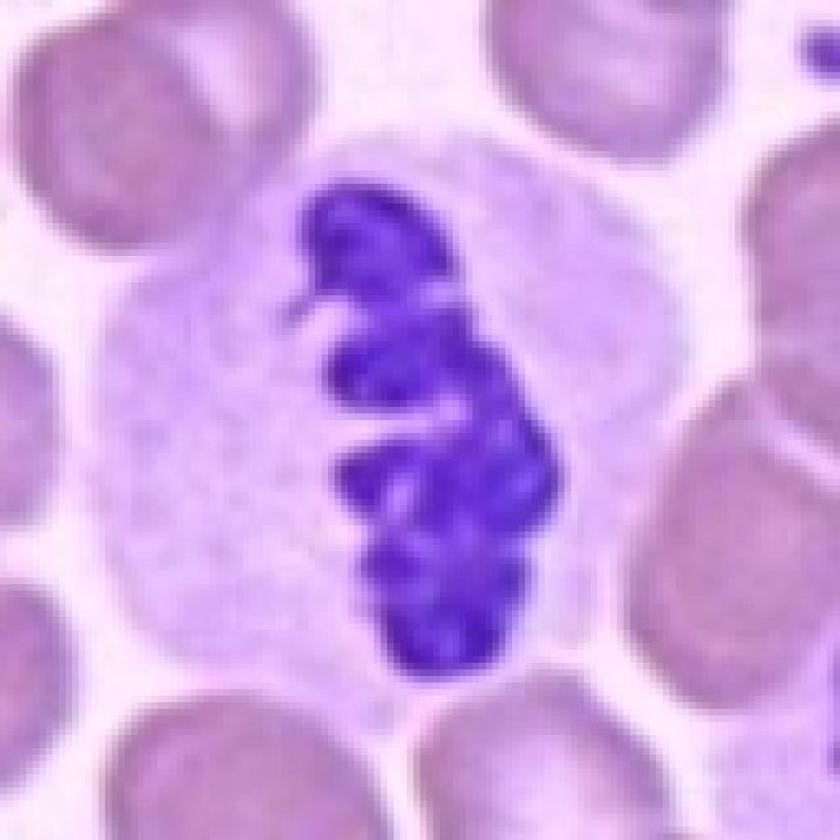neutrophil: (39, 102, 748, 772)
